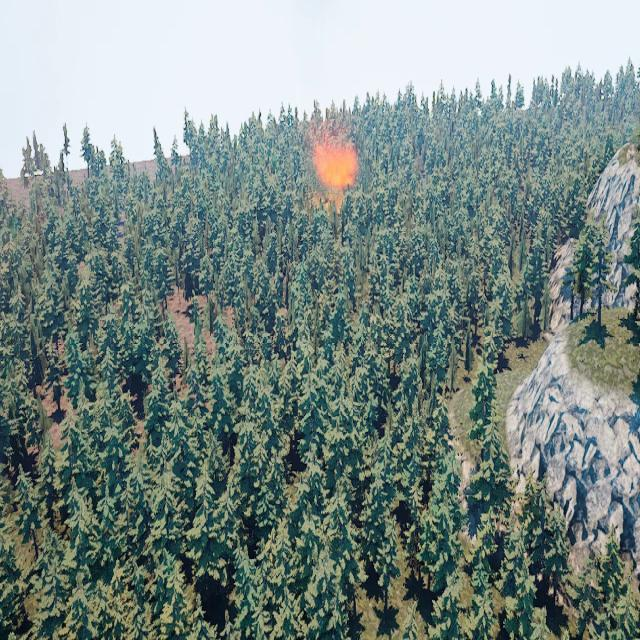smoke: (311, 108, 359, 204)
